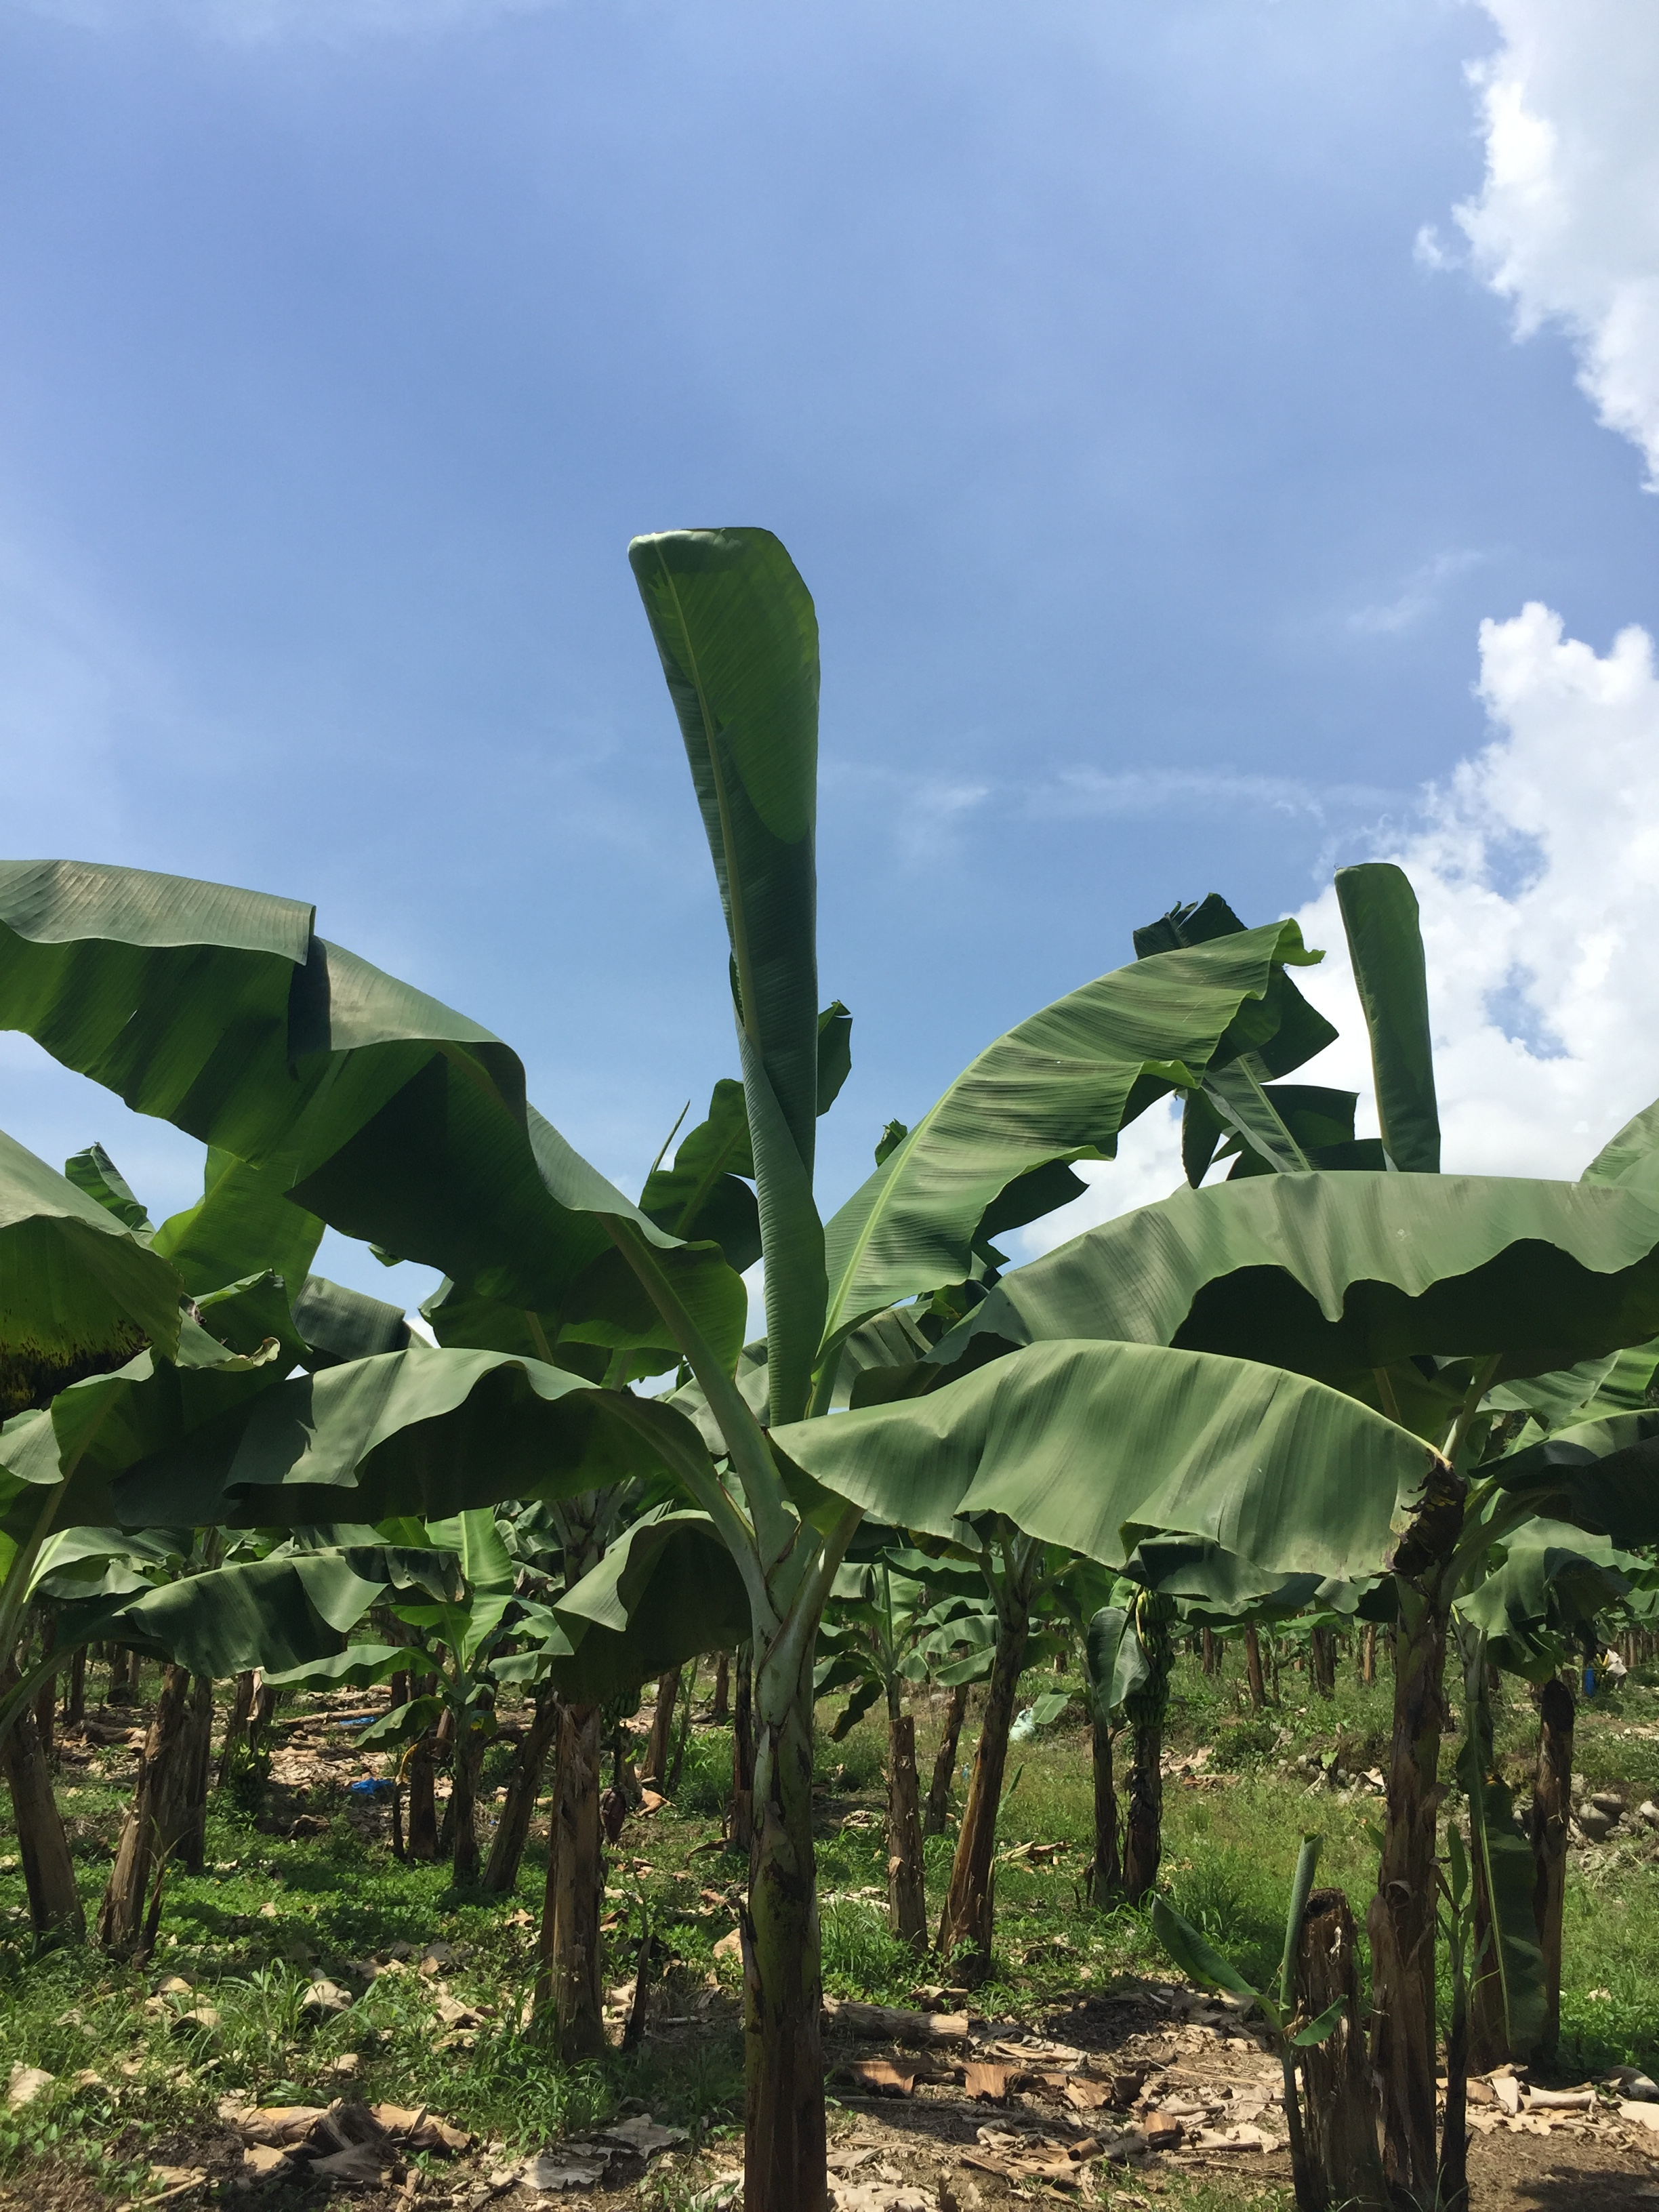candleleafs: (629, 526, 823, 1426)
